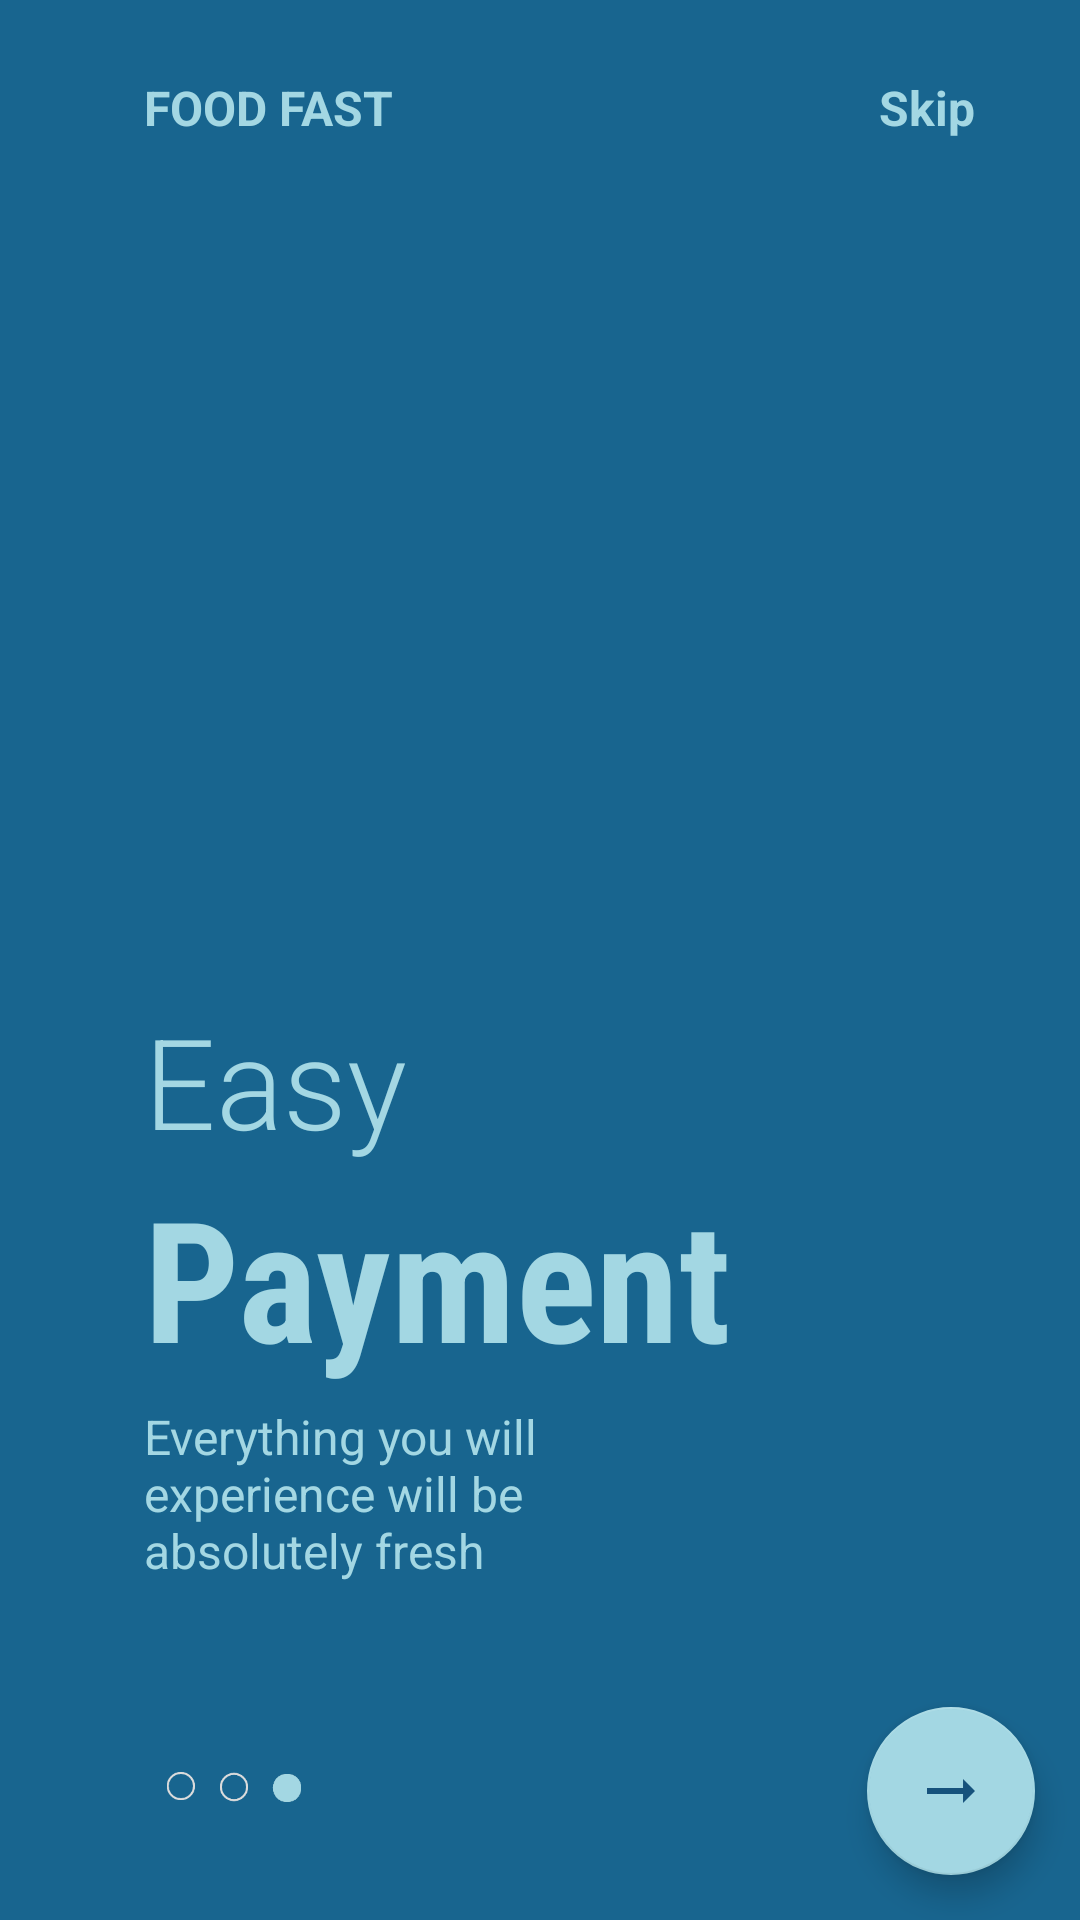

Icon click points for this 1080px×1920px phone screenshot, format (x=x, y=y):
arrow right: (x=951, y=1791)
